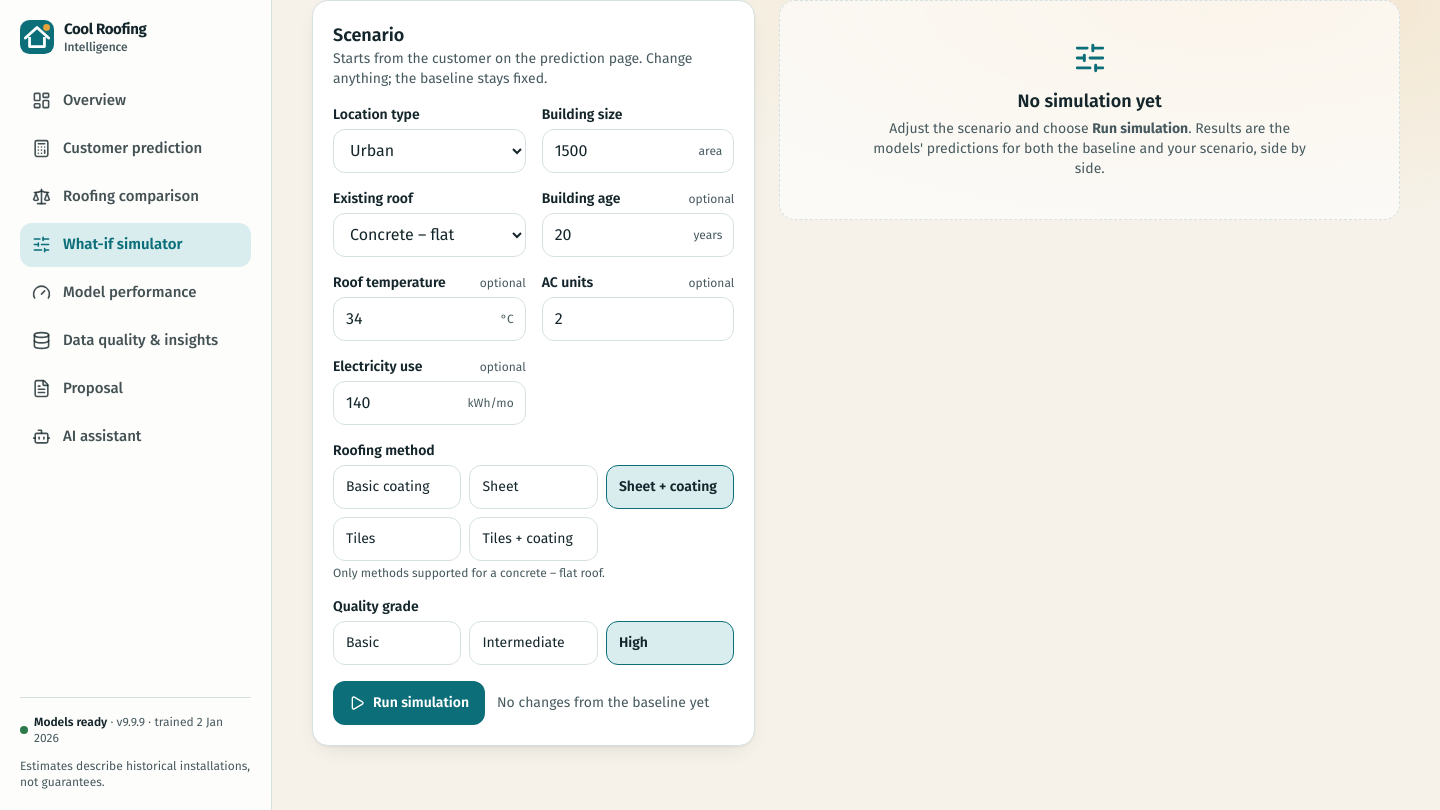
Test case: what-if simulator › runs baseline + scenario through the real prediction and compare endpoints and shows both side by side
The image size is (1440, 810).
(page scrolled)
Expected: the text "No simulation yet" is shown, [1018,87,1162,115]
Click the radio button labelled "Basic".
click(397, 643)  # box [333,621,461,665]
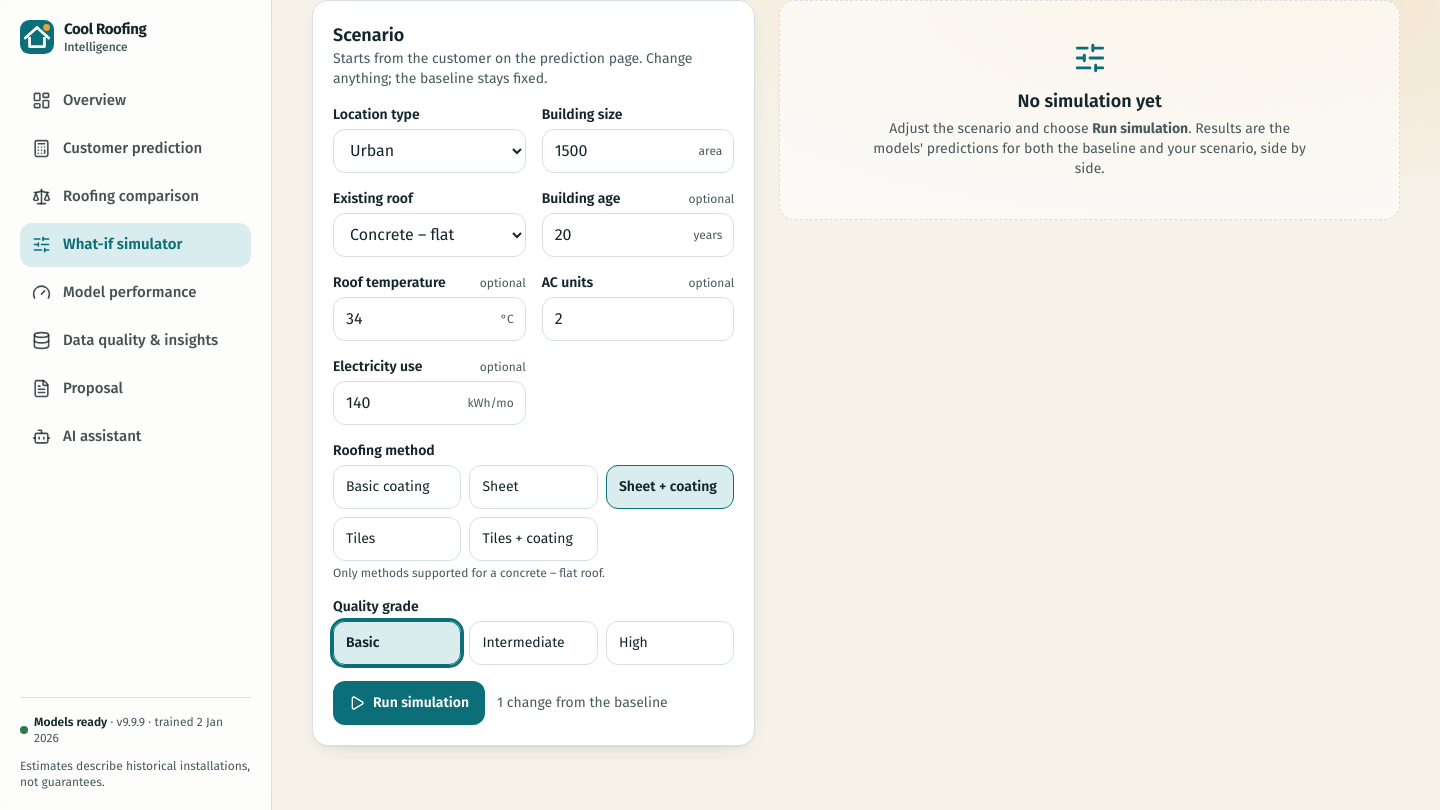
Replace the text in the number field labelled "Building size" with "2000" at (638, 151), box [542,129,734,173]
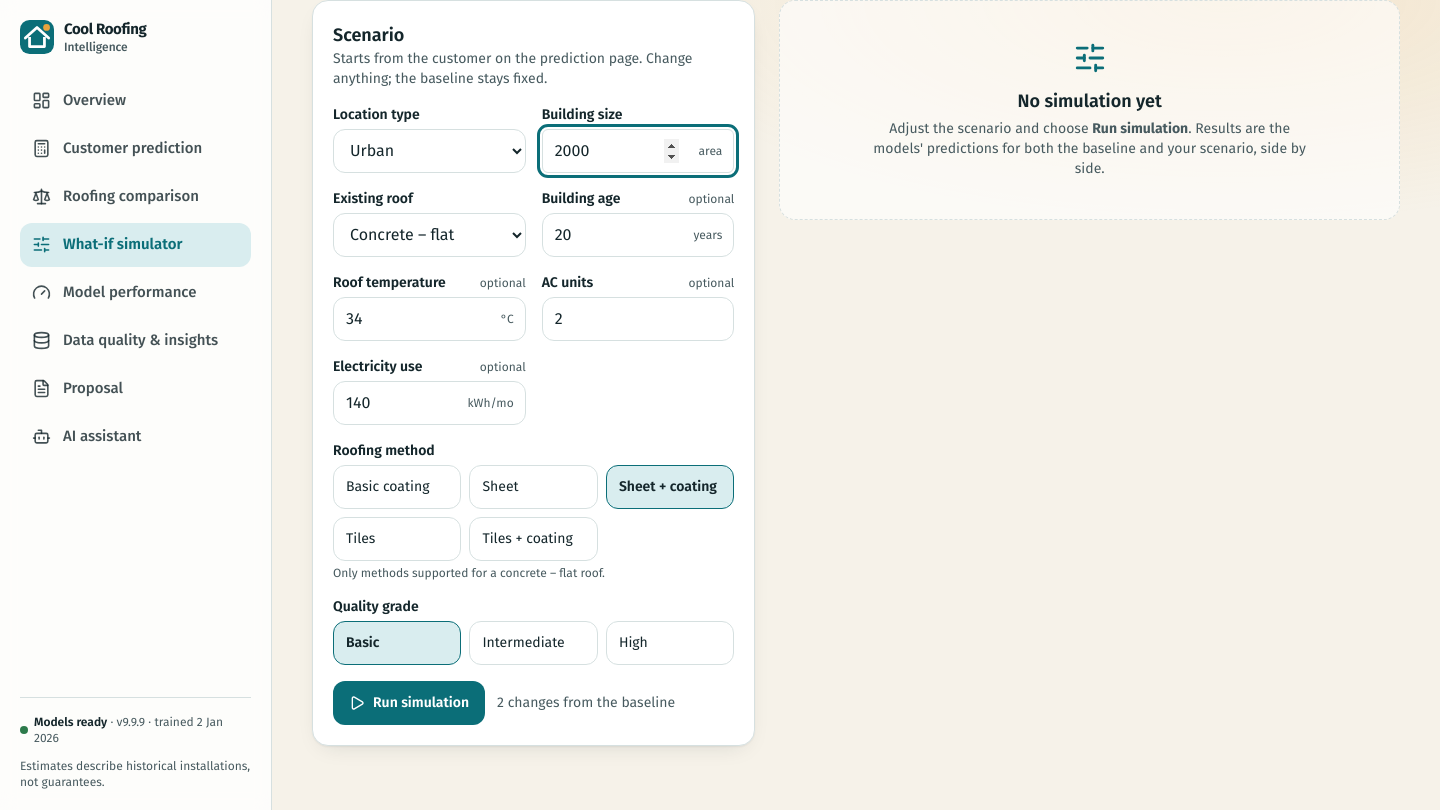
Now the text "2 changes from the baseline" is shown, box [497,693,675,713]
Click the button "Run simulation".
click(409, 703)  # box [333,681,485,725]
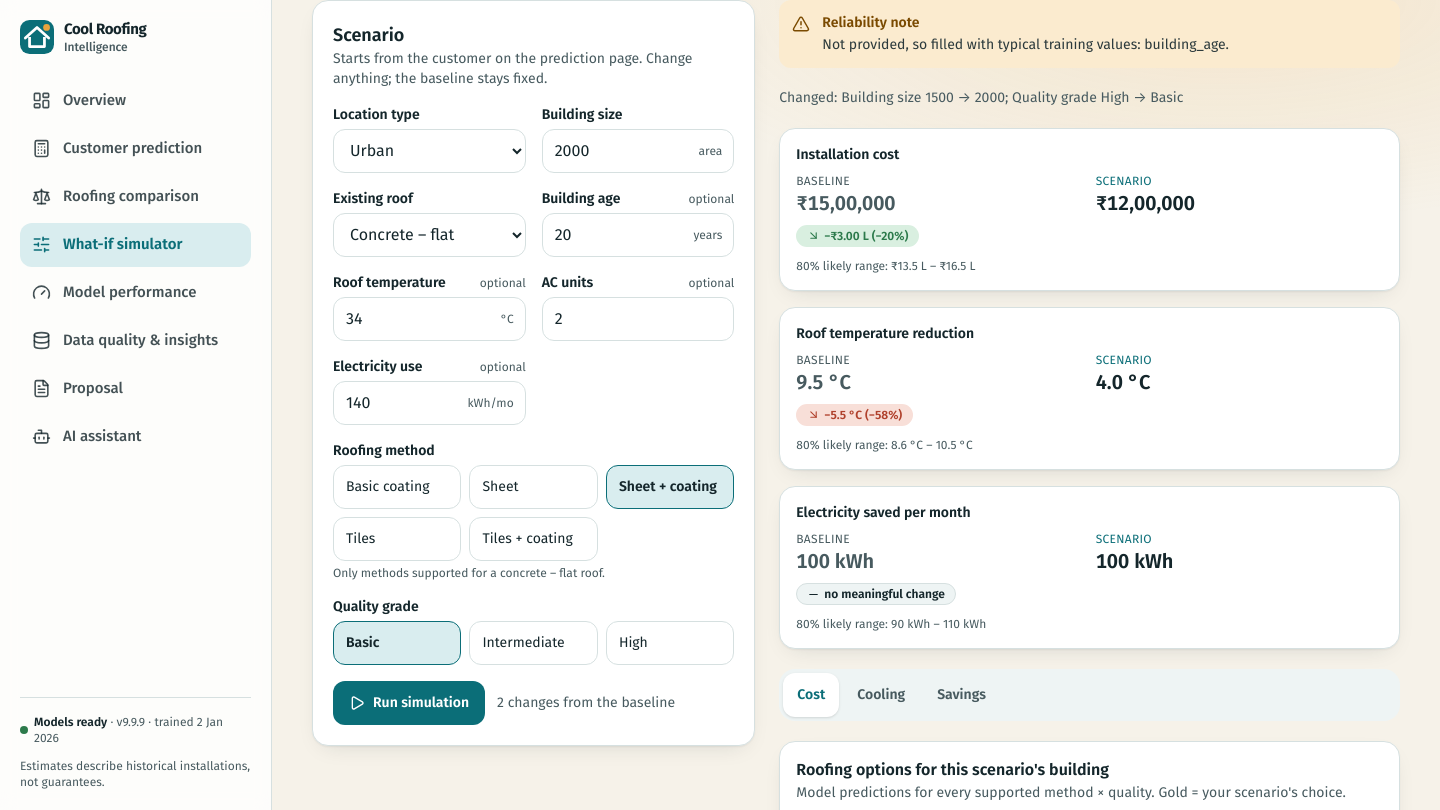
Now the text with test id "sim-base-cost" reads "₹15,00,000", box [796,191,896,215]
Now the text with test id "sim-scen-cost" reads "₹12,00,000", box [1096,191,1195,215]
Now the text with test id "sim-delta-cost" reads "−₹3.00 L (−20%)", box [824,229,908,243]
